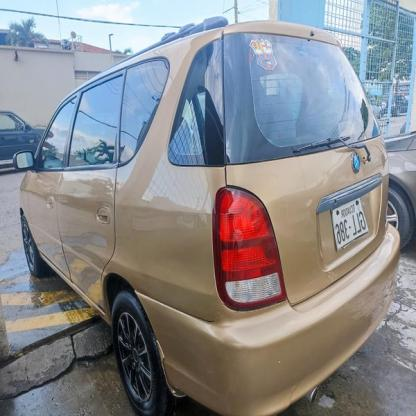Placa: (330, 189, 376, 254)
